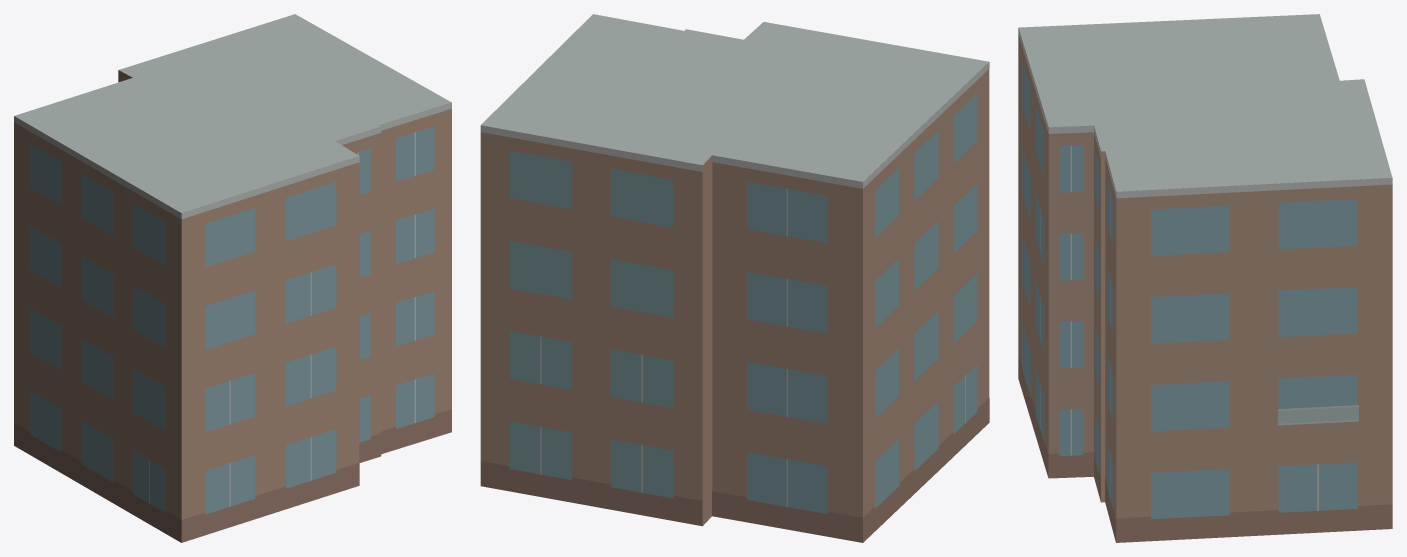
The model's file is survey-upis-32634004.glb.
The picture shows the model from 3 angles, left to right: view 1: azimuth 30°, elevation 25°; view 2: azimuth 150°, elevation 25°; view 3: azimuth 270°, elevation 25°; orthographic projection. The views are drawn at different scales.
Parts seen in each view (by area): view 1: survey-upis-32634004.tmp; view 2: survey-upis-32634004.tmp; view 3: survey-upis-32634004.tmp.
Boxes of the visible parts, <box> form: survey-upis-32634004.tmp: <box>14,14,451,542</box>; survey-upis-32634004.tmp: <box>480,14,989,542</box>; survey-upis-32634004.tmp: <box>1018,14,1392,542</box>.
Bounding box in the file's own units: 14.02 × 12.9 × 12.47.
